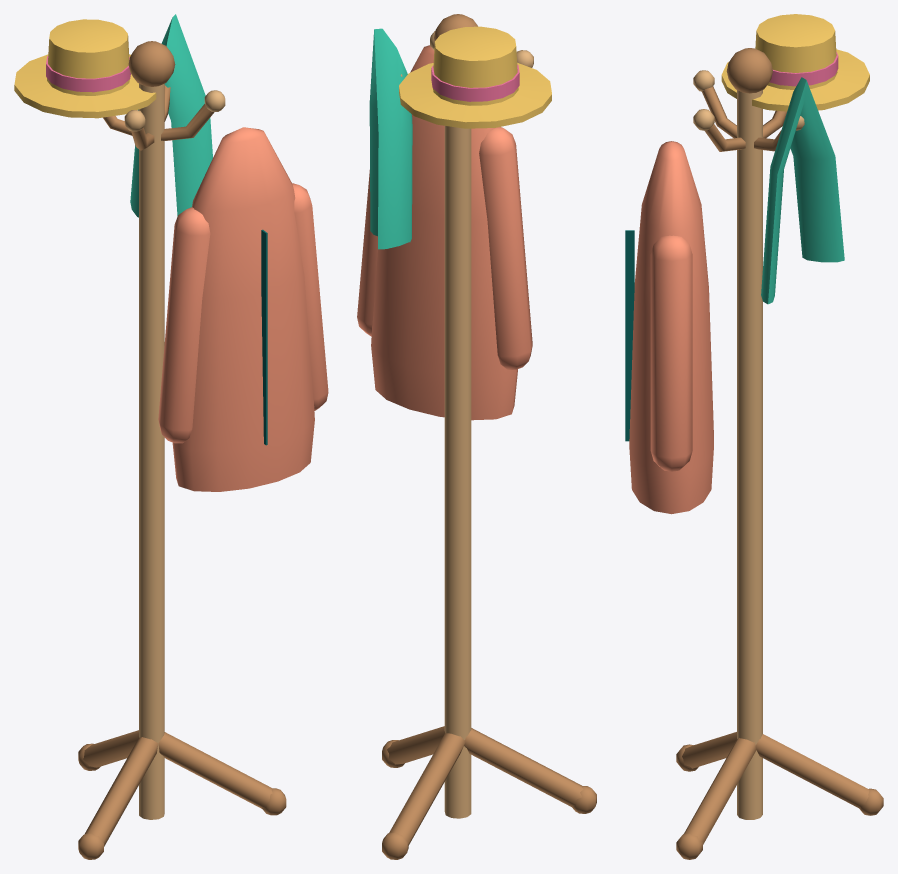
Rendered from coat_rack.glb.
The picture shows the model from 3 angles, left to right: view 1: azimuth 30°, elevation 25°; view 2: azimuth 150°, elevation 25°; view 3: azimuth 270°, elevation 25°; orthographic projection. The views are drawn at different scales.
Parts seen in each view (by area): view 1: CoatRack; view 2: CoatRack; view 3: CoatRack.
Part boxes in pixels (<box>): CoatRack: <box>14,14,328,859</box>; CoatRack: <box>357,14,596,859</box>; CoatRack: <box>625,14,883,859</box>.
Bounding box in the file's own units: 0.5925 × 1.83 × 0.5572.
